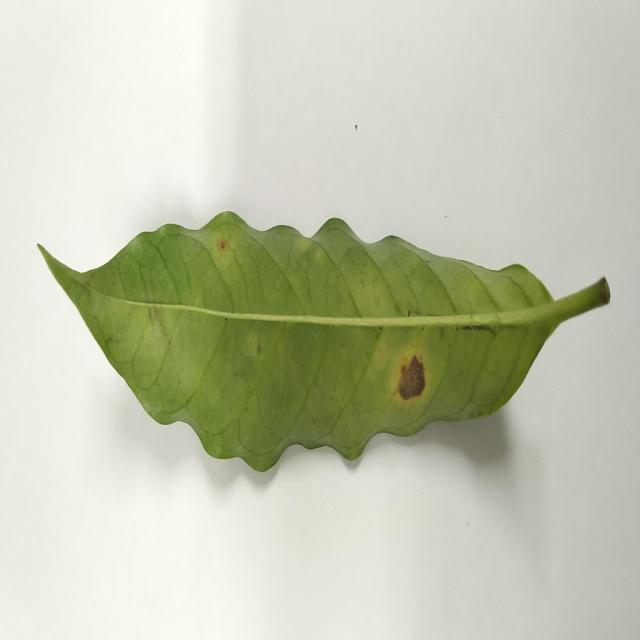Enfermedad-Mancha-de-hierro: (37, 211, 613, 474)
